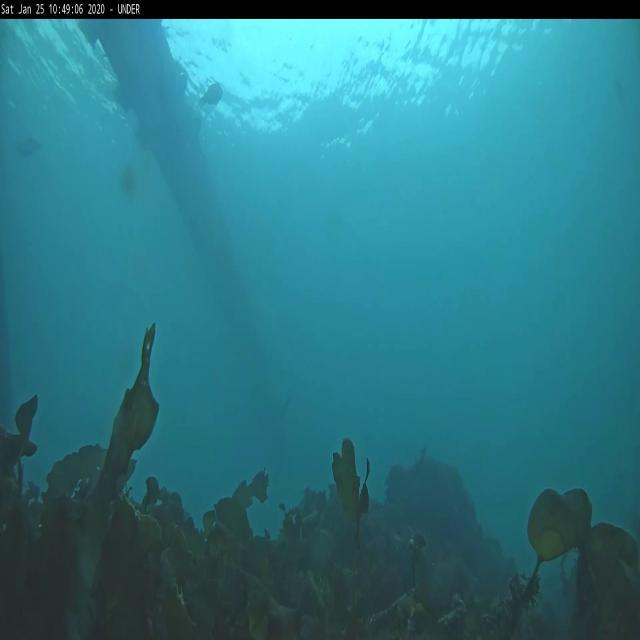fish: (15, 134, 46, 162), (199, 80, 224, 108)
